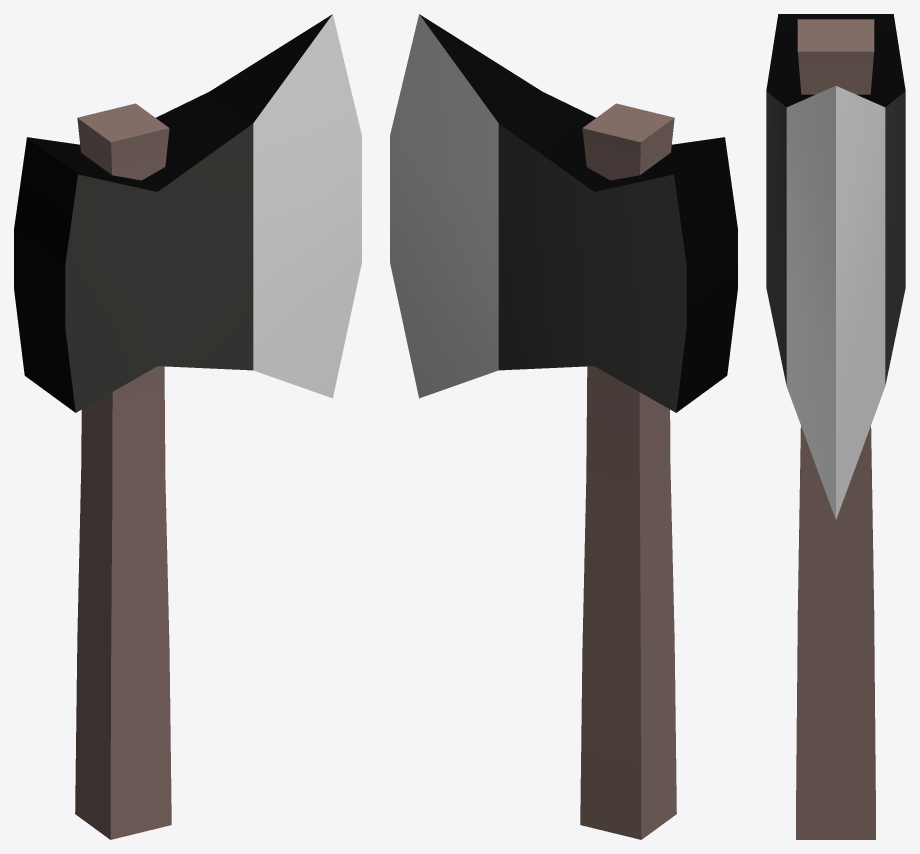
The model's file is Prop_Axe.FBX.
3 views of the same model, side by side, from view 1: azimuth 30°, elevation 25°; view 2: azimuth 150°, elevation 25°; view 3: azimuth 270°, elevation 25° (orthographic). The views are drawn at different scales.
Parts seen in each view (by area): view 1: Prop_Axe; view 2: Prop_Axe; view 3: Prop_Axe.
Part boxes in pixels (<box>): Prop_Axe: <box>14,14,361,839</box>; Prop_Axe: <box>390,14,737,839</box>; Prop_Axe: <box>766,14,905,839</box>.
Size of the model in its own units: 29.09 by 65.09 by 9.64.
